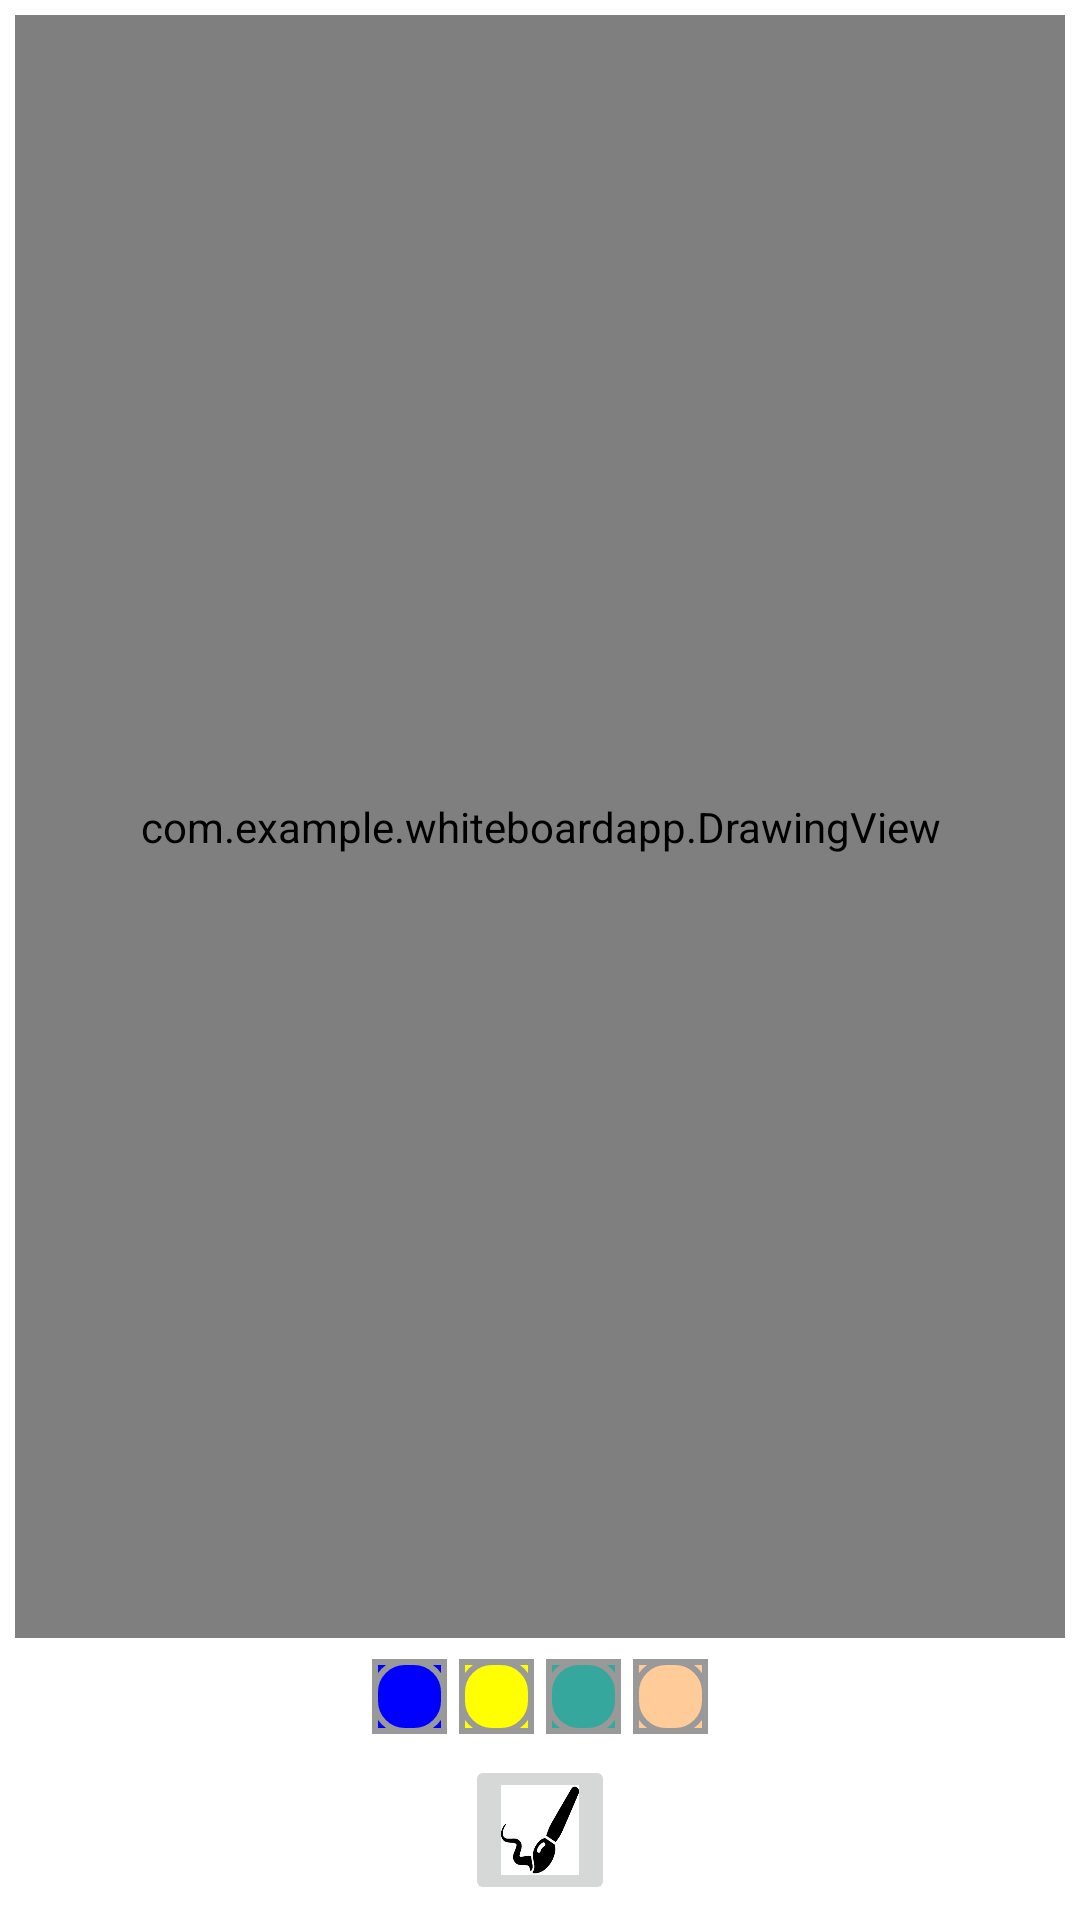

Locate icon controls on the screen. Image size 1080w x 1920h, boxes as box=[x1, y1, x2, y2].
brush: box=[477, 1773, 603, 1887]
